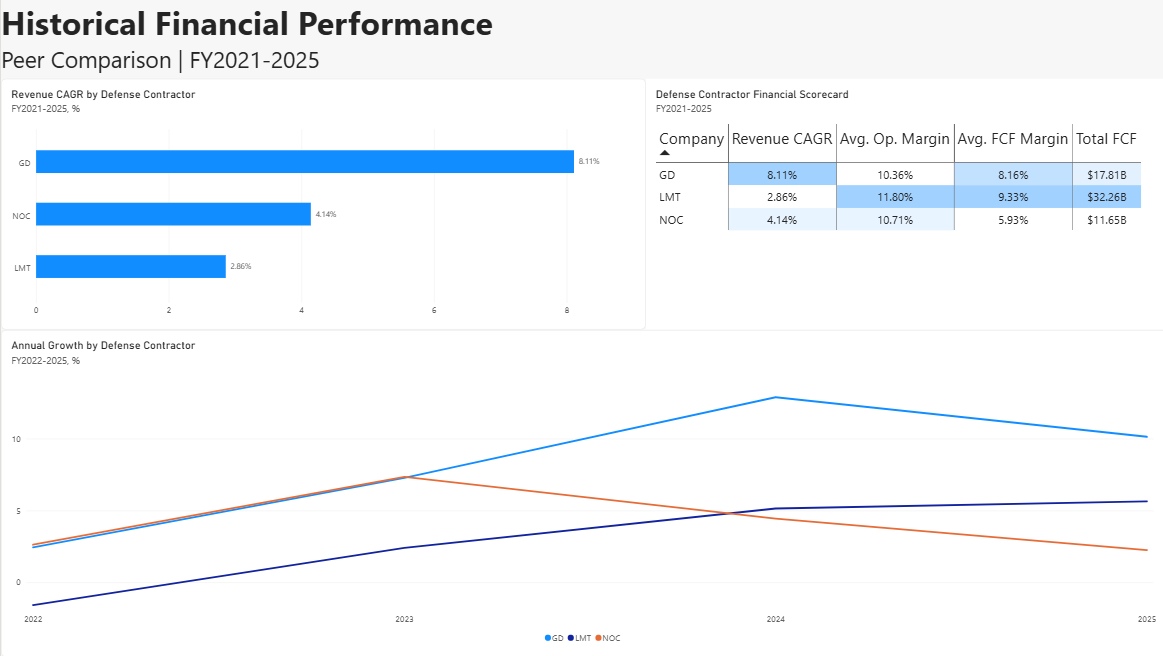

What the dashboard file says about the page in this screenshot:
{"tool":"powerbi","page":{"name":"Historical Performance","canvas":[1920,1080],"ordinal":1},"visuals":[{"type":"textbox","box":[0,0,1920,130.4],"z":0},{"type":"clusteredBarChart","title":"Revenue CAGR by Defense Contractor","fields":{"Category":["PeerScorecard.ticker"],"Y":["Avg(PeerScorecard.revenue_cagr_pct)"]},"box":[0,130.4,1061.9,412.4],"z":1},{"type":"tableEx","title":"Defense Contractor Financial Scorecard","fields":{"Values":["PeerScorecard.ticker","PeerScorecard.revenue_cagr_pct","PeerScorecard.avg_operating_margin_pct","PeerScorecard.avg_fcf_margin_pct","PeerScorecard.total_fcf_billions"]},"box":[1061.9,130.4,858.1,412.4],"z":2},{"type":"lineChart","title":"Annual Growth by Defense Contractor","fields":{"Category":["HistoricalFinancials.year"],"Series":["HistoricalFinancials.ticker"],"Y":["Avg(HistoricalFinancials.revenue_growth_pct)"]},"box":[0,542.8,1920,538.1],"z":3}]}

Visuals, with their boxes in screenshot pixels (x1, y1, x2, y2), scaled from the page's 1920x1080 canvas onto the 1163x656 screenshot:
textbox: select_region(0, 0, 1162, 79)
"Revenue CAGR by Defense Contractor" clusteredBarChart: select_region(0, 79, 643, 330)
"Defense Contractor Financial Scorecard" tableEx: select_region(643, 79, 1162, 330)
"Annual Growth by Defense Contractor" lineChart: select_region(0, 330, 1162, 655)
